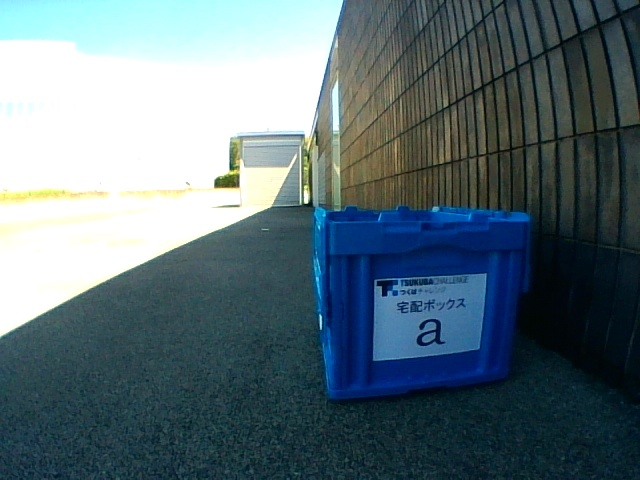blue_box: (314, 205, 531, 397)
tag_a: (382, 279, 477, 347)
